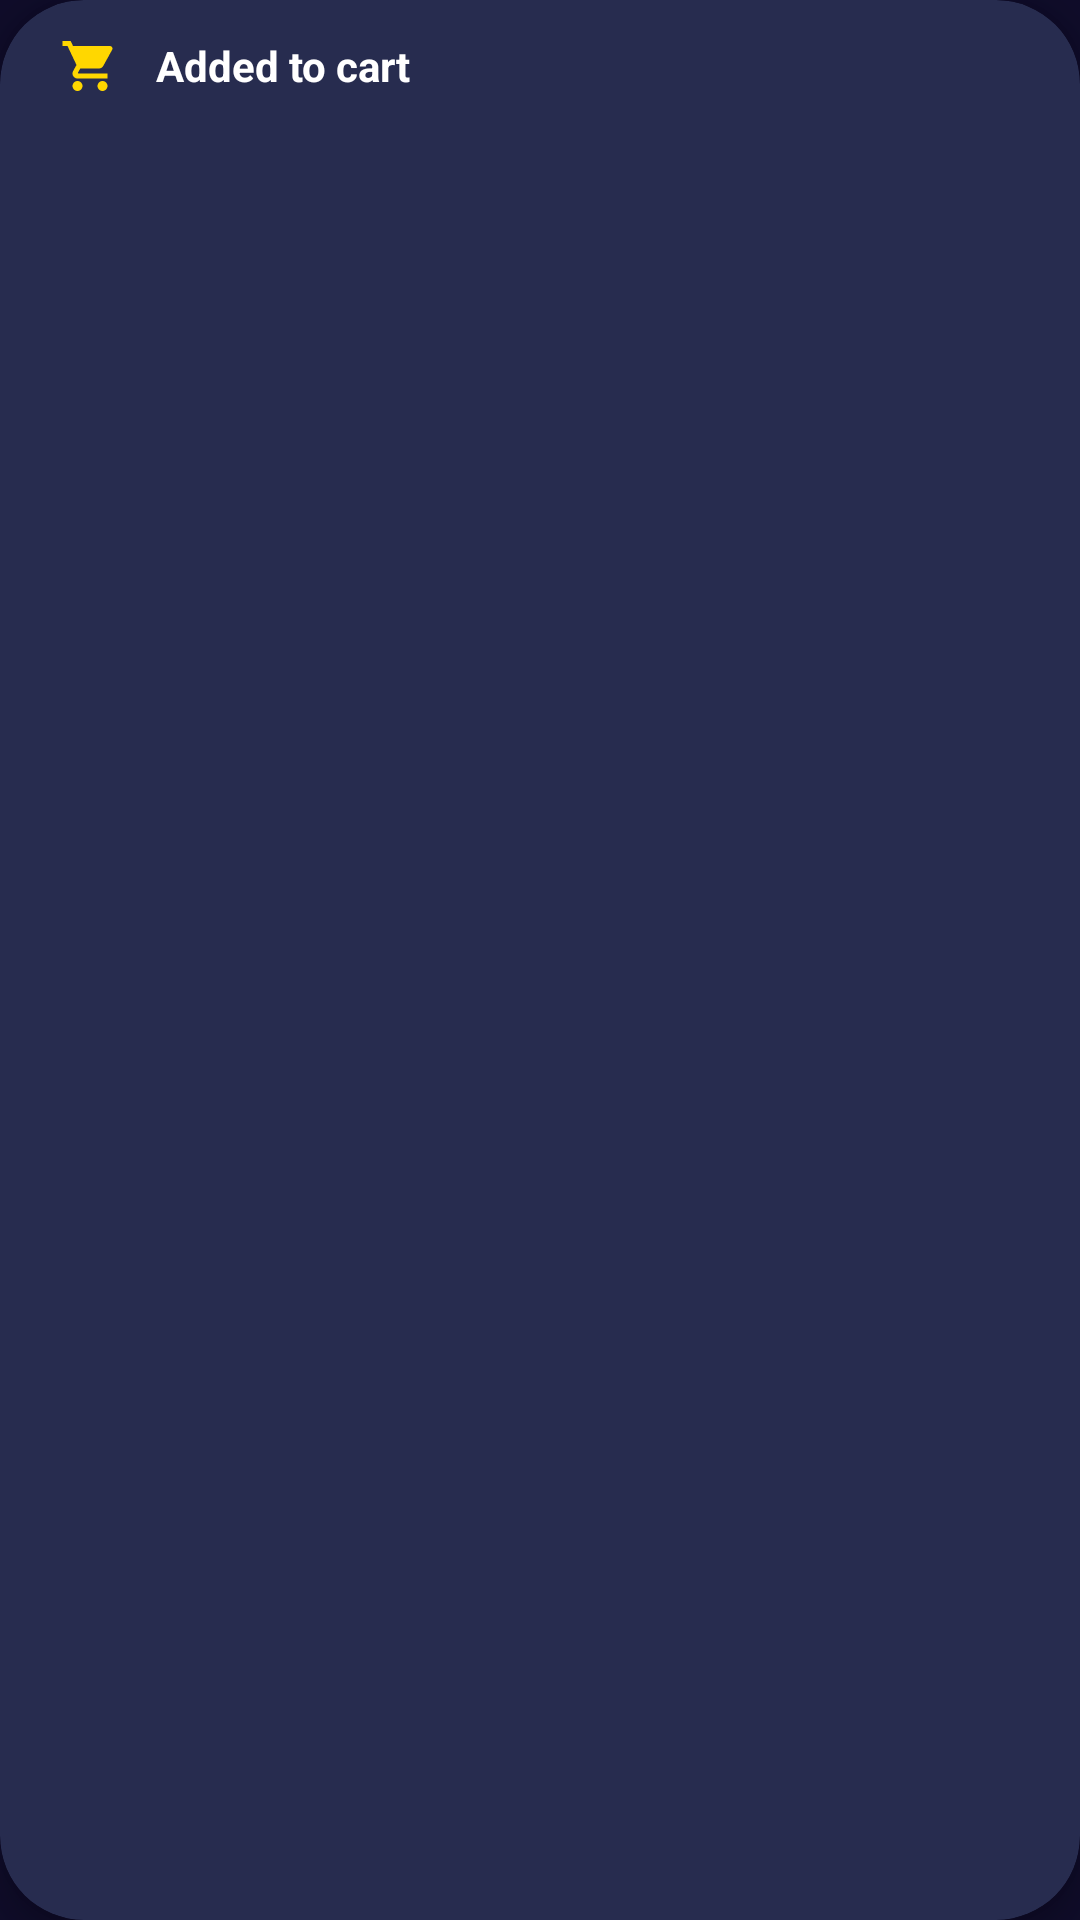

Where to tap for icons on this 1080w x 1920h app screen, as [x,y]:
shopping cart: [87,66]
